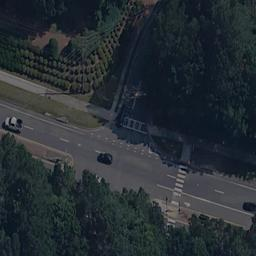Car: (2, 114, 23, 132), (95, 151, 114, 166)
Crosswalk: (120, 112, 150, 135), (176, 163, 187, 197), (165, 216, 176, 231)
White Dashed Line: (211, 185, 226, 196), (56, 135, 70, 144), (23, 123, 34, 134)
